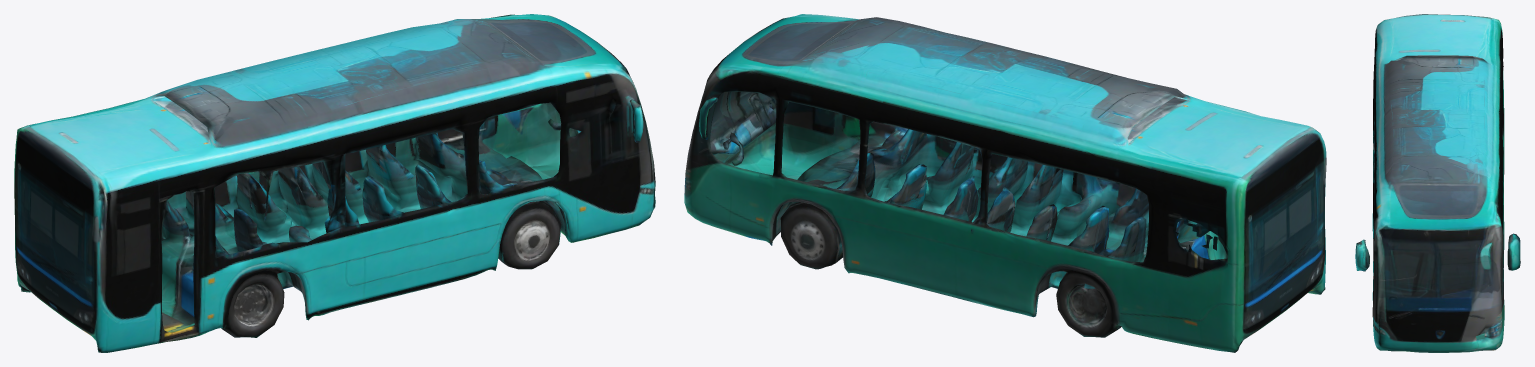
Rendered from bus.glb.
3 views of the same model, side by side, from view 1: azimuth 30°, elevation 25°; view 2: azimuth 150°, elevation 25°; view 3: azimuth 270°, elevation 25° (orthographic). The views are drawn at different scales.
Size of the model in its own units: 1.99 by 0.6896 by 0.6554.
1 material, 1 textured.
